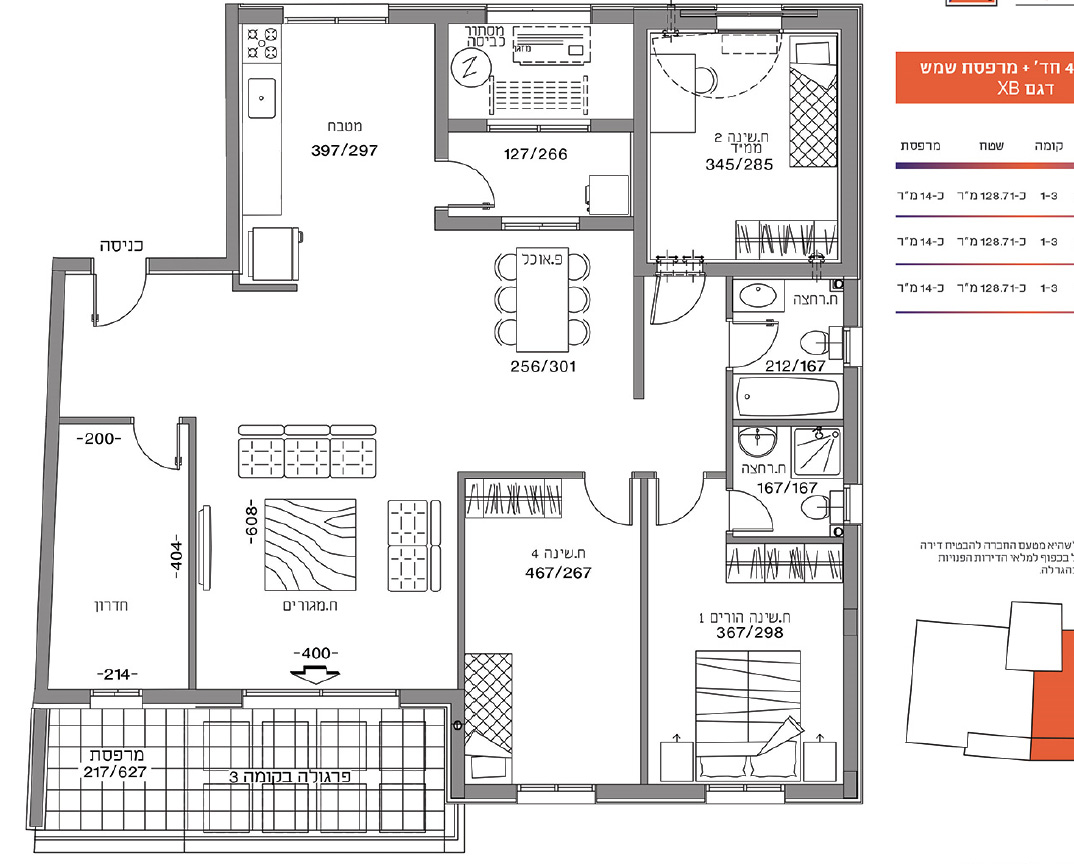door: (445, 155, 511, 213), (86, 281, 152, 336), (120, 429, 186, 484), (572, 481, 638, 536), (645, 478, 711, 533), (728, 485, 794, 540), (735, 314, 801, 369), (647, 275, 713, 330)
room: (628, 1, 862, 276), (455, 471, 648, 796), (640, 535, 857, 798)
wall: (839, 5, 860, 275), (843, 524, 859, 799), (634, 10, 650, 280), (224, 3, 240, 271), (148, 258, 240, 272)
window: (241, 688, 401, 708), (284, 5, 388, 24), (486, 4, 590, 23), (488, 116, 592, 135), (514, 784, 597, 803), (703, 784, 786, 803), (501, 215, 580, 233), (91, 689, 142, 710), (843, 485, 863, 523), (843, 326, 863, 364)
